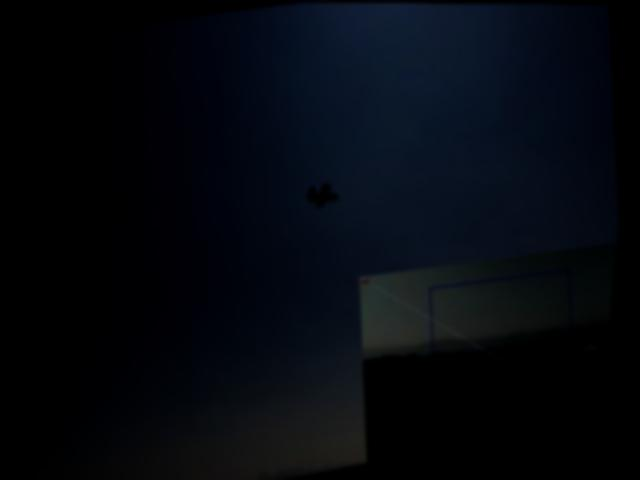uav: (307, 176, 349, 213)
